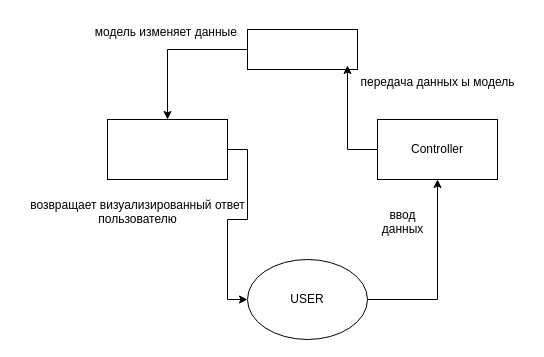
This 544x357 diagram has some shape labels left out. Each missing label, with the box of its shape:
Model: (246, 28, 358, 70)
View: (106, 118, 228, 180)
